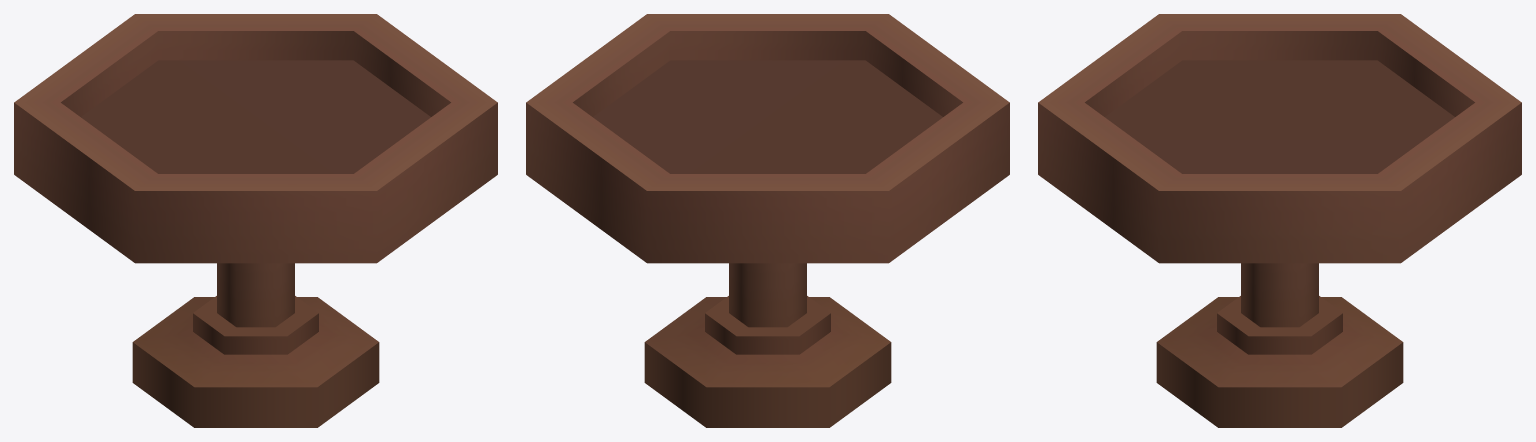
The model's file is FoodProp_1_E.fbx.
3 views of the same model, side by side, from view 1: azimuth 30°, elevation 25°; view 2: azimuth 150°, elevation 25°; view 3: azimuth 270°, elevation 25° (orthographic).
Parts seen in each view (by area): view 1: FoodProp_1_E; view 2: FoodProp_1_E; view 3: FoodProp_1_E.
Boxes of the visible parts, x1,y1,x2,y2 form: FoodProp_1_E: (14,14,497,427); FoodProp_1_E: (526,14,1009,427); FoodProp_1_E: (1038,14,1521,427).
Size of the model in its own units: 49.95 by 36.88 by 57.67.
